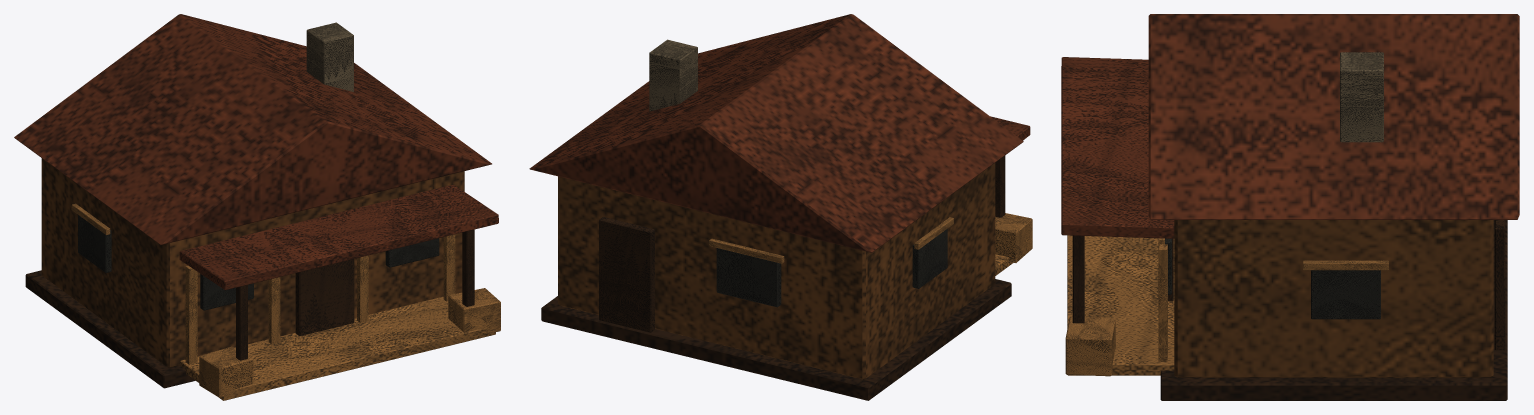
File: south_bank_homestead.glb
3 renders of one model, left to right at view 1: azimuth 30°, elevation 25°; view 2: azimuth 150°, elevation 25°; view 3: azimuth 270°, elevation 25°, orthographic. The views are drawn at different scales.
Visible parts, largest first — view 1: south_bank_homestead; view 2: south_bank_homestead; view 3: south_bank_homestead.
Part boxes in pixels (x1,y1,x2,y2): south_bank_homestead: [14, 14, 500, 400]; south_bank_homestead: [529, 14, 1032, 400]; south_bank_homestead: [1061, 14, 1519, 400].
Bounding box in the file's own units: 6 × 4.11 × 5.74.
Materials: 1 (1 with a texture image).
